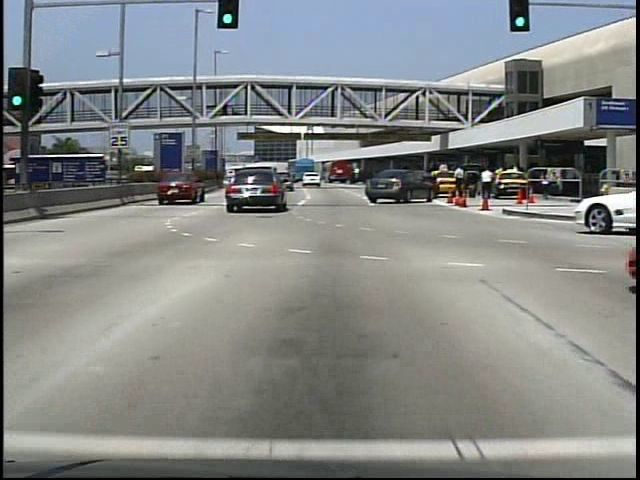person: (452, 166, 470, 205), (477, 167, 495, 202), (537, 168, 553, 203), (220, 98, 230, 118)
